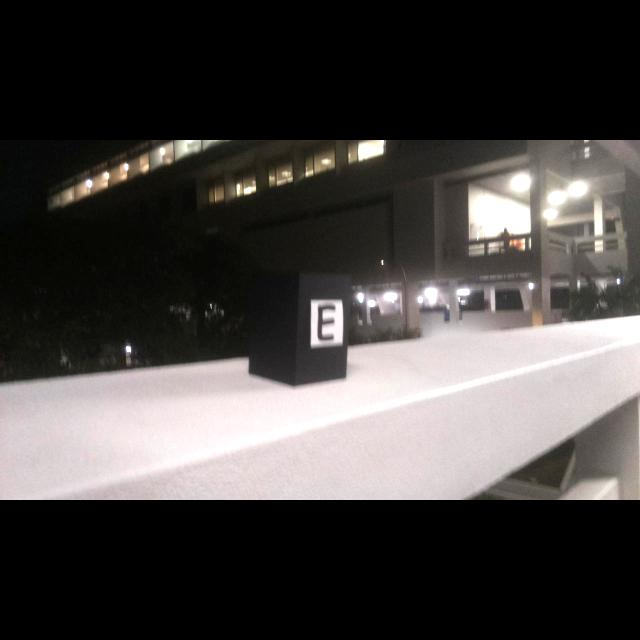E: (318, 305, 336, 340)
